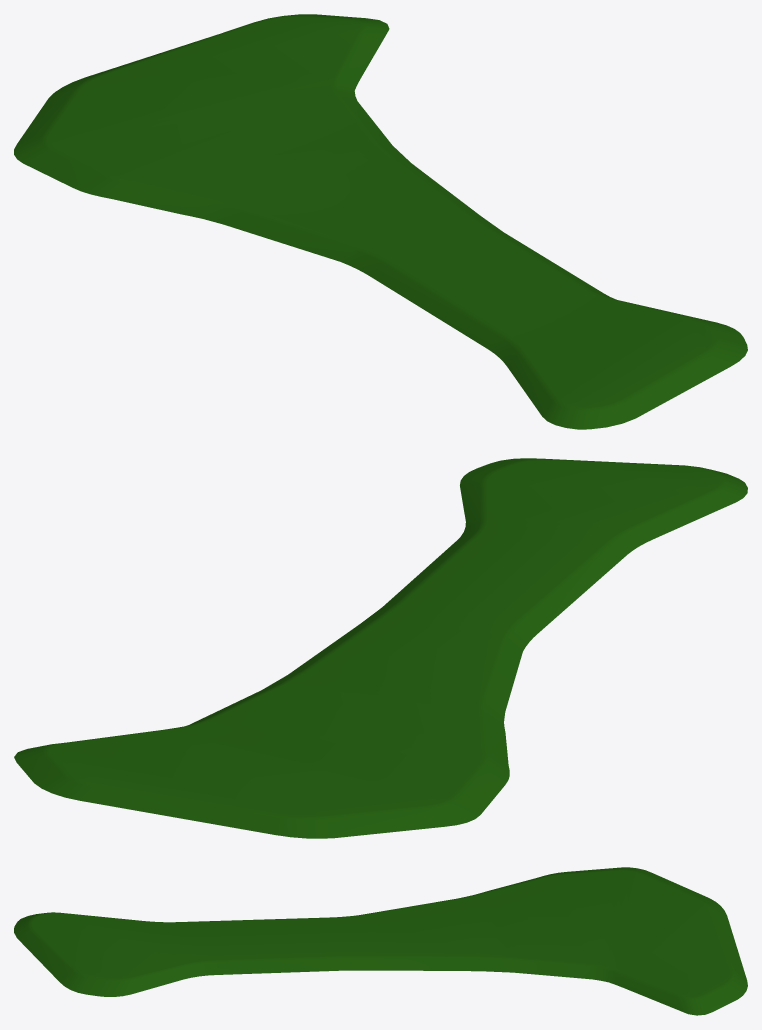
The model's file is GroundPadding05_3.fbx.
3 views of the same model, one above another, from view 1: azimuth 30°, elevation 25°; view 2: azimuth 150°, elevation 25°; view 3: azimuth 270°, elevation 25° (orthographic). The views are drawn at different scales.
Parts seen in each view (by area): view 1: LOD0; view 2: LOD0; view 3: LOD0.
Boxes of the visible parts, <box> form: LOD0: <box>14,14,747,429</box>; LOD0: <box>14,458,747,838</box>; LOD0: <box>14,867,747,1015</box>.
Size of what is drawn, in the model's own units: 863 by 1806 by 20.61.
